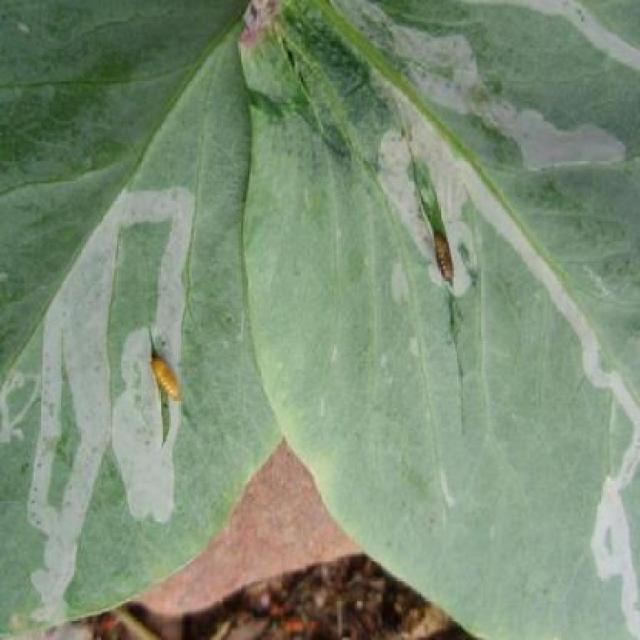whorl-maggot: (146, 345, 188, 409), (428, 224, 457, 291)
